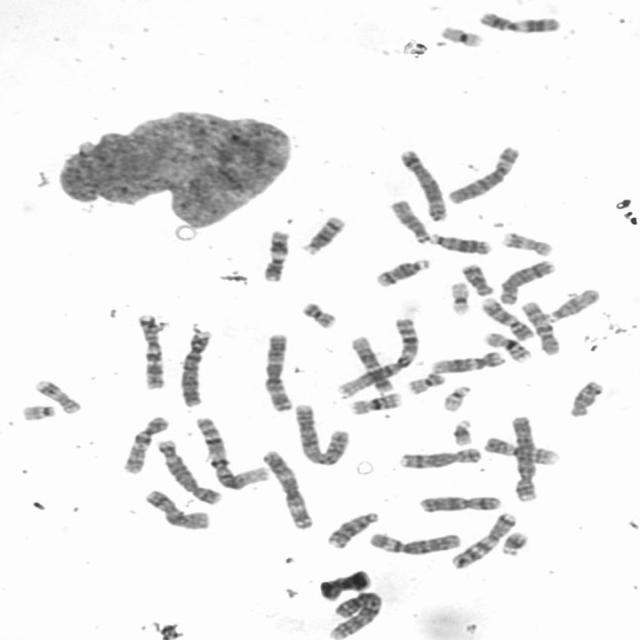A1: (332, 314, 422, 398), (190, 412, 271, 491)
A2: (290, 399, 351, 467), (325, 587, 385, 639)
A3: (258, 447, 316, 530), (260, 329, 294, 413)
B4: (174, 327, 214, 408), (506, 412, 540, 502)
B5: (155, 436, 224, 506), (396, 146, 451, 222)
C10: (119, 413, 171, 475), (517, 296, 562, 356)
C11: (474, 8, 564, 35), (258, 228, 290, 283)
C12: (346, 332, 396, 393), (428, 348, 506, 374)
C6: (443, 142, 522, 206), (364, 529, 462, 556)
C7: (447, 509, 519, 571), (133, 310, 167, 391)
C8: (496, 258, 559, 305), (396, 443, 484, 470)
C9: (477, 295, 535, 342), (481, 434, 563, 466)
D13: (323, 508, 381, 549), (426, 229, 493, 256)
D14: (298, 212, 347, 256), (371, 255, 432, 288)
D15: (386, 196, 432, 246), (542, 286, 601, 323)
E16: (480, 328, 535, 364), (346, 389, 404, 416)
E17: (30, 376, 83, 415), (498, 228, 554, 258)
E18: (566, 377, 606, 418), (457, 259, 495, 296)
F19: (436, 21, 486, 49), (446, 278, 473, 316)
F20: (297, 297, 339, 330), (403, 368, 447, 395)
G21: (497, 528, 530, 557), (448, 415, 476, 447)
G22: (439, 382, 474, 413), (17, 401, 57, 422)
X: (140, 487, 212, 531), (415, 492, 504, 514)
